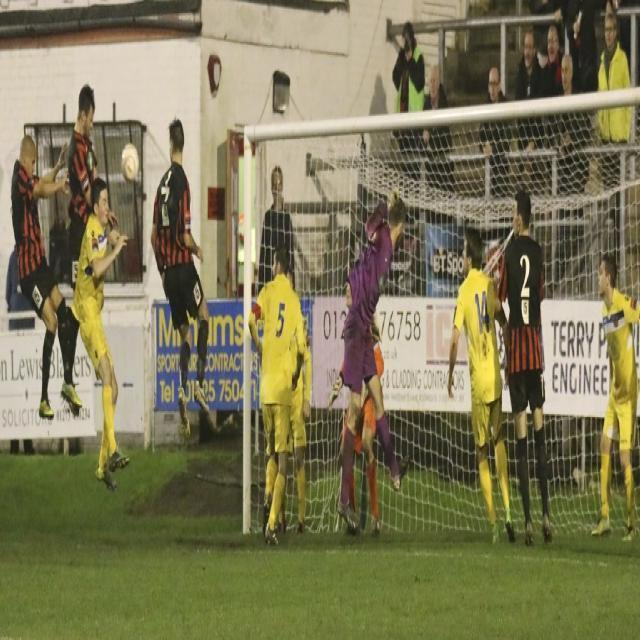ball: (121, 143, 138, 182)
